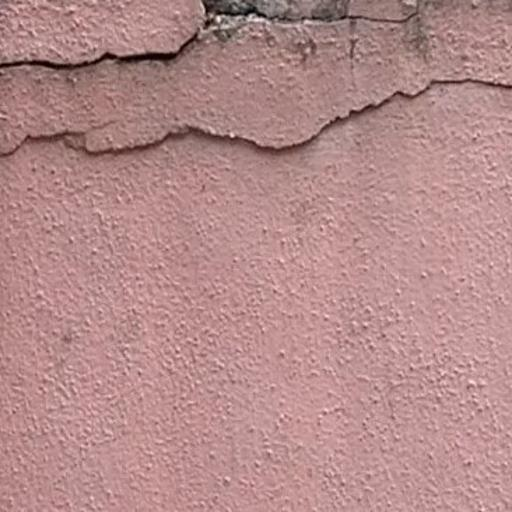major_crack: (10, 73, 512, 168), (4, 0, 436, 73)
